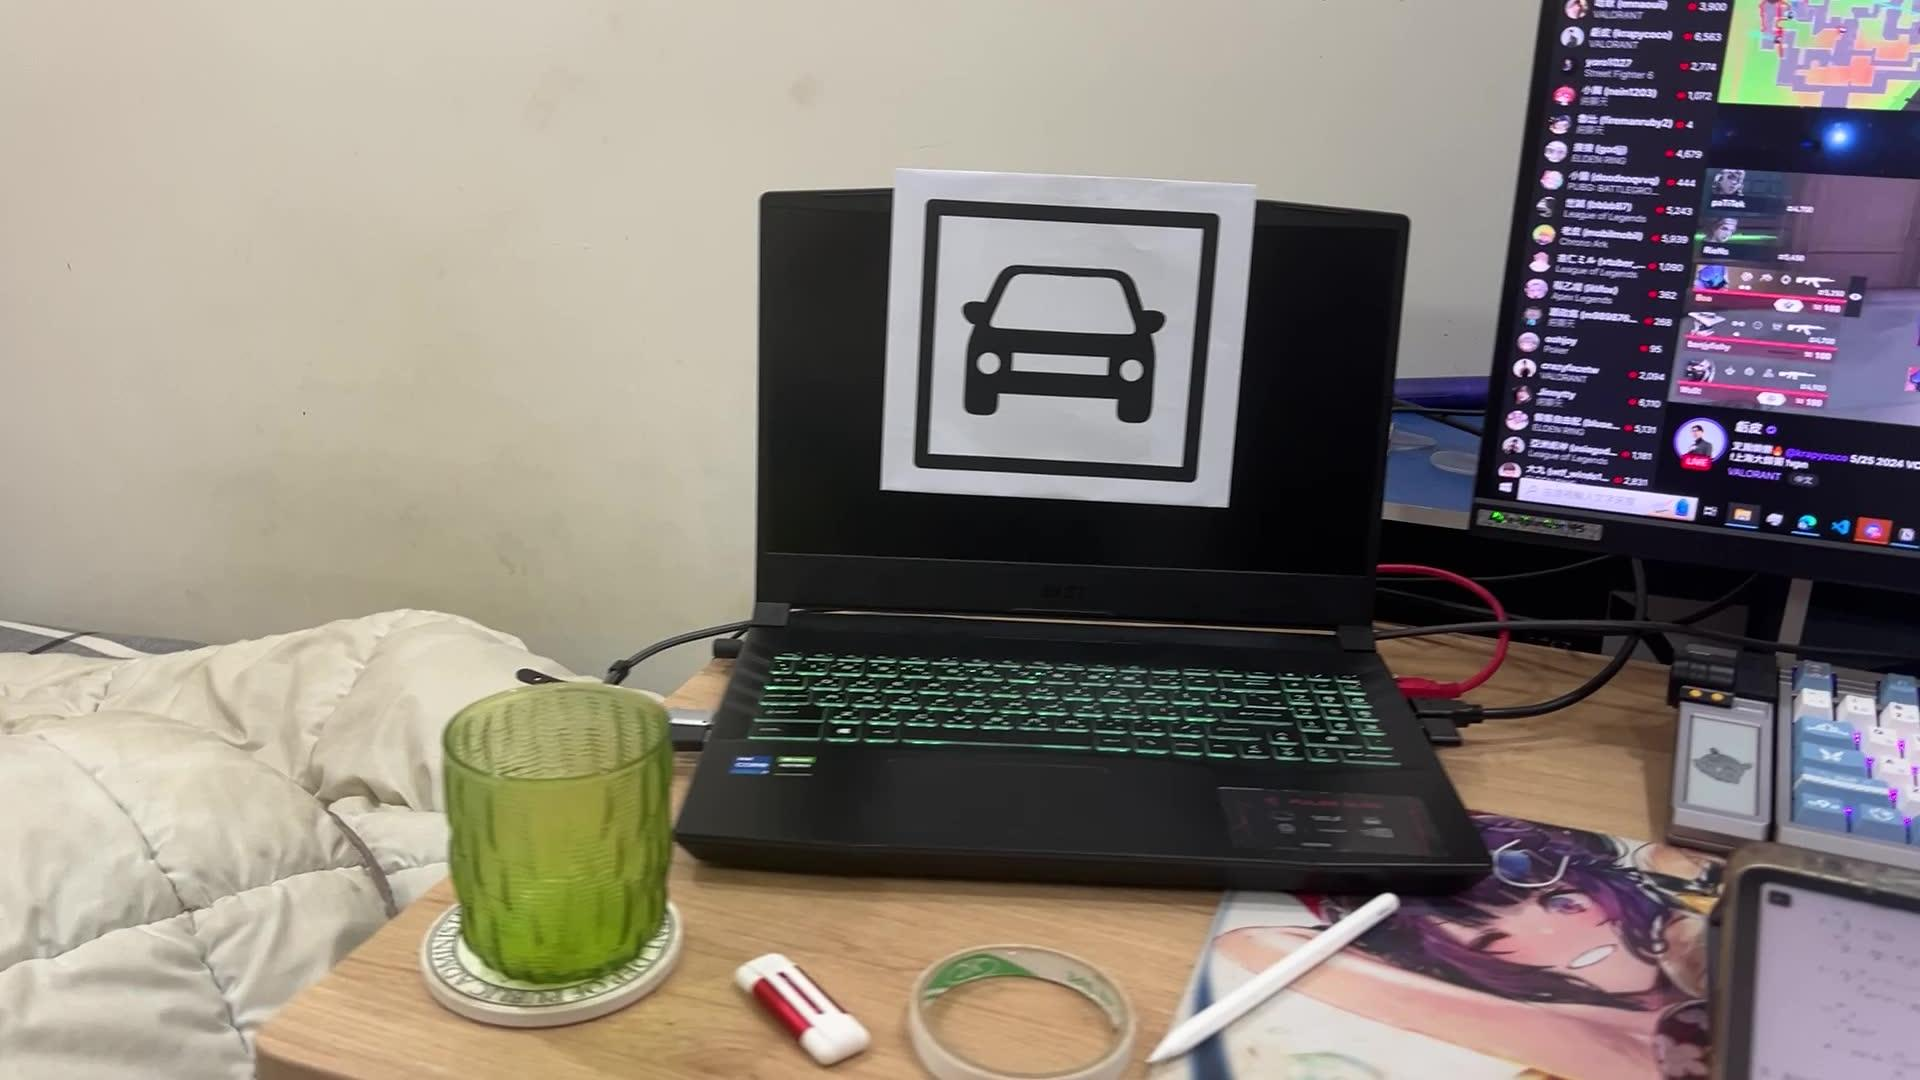car_img: (913, 198, 1220, 483)
